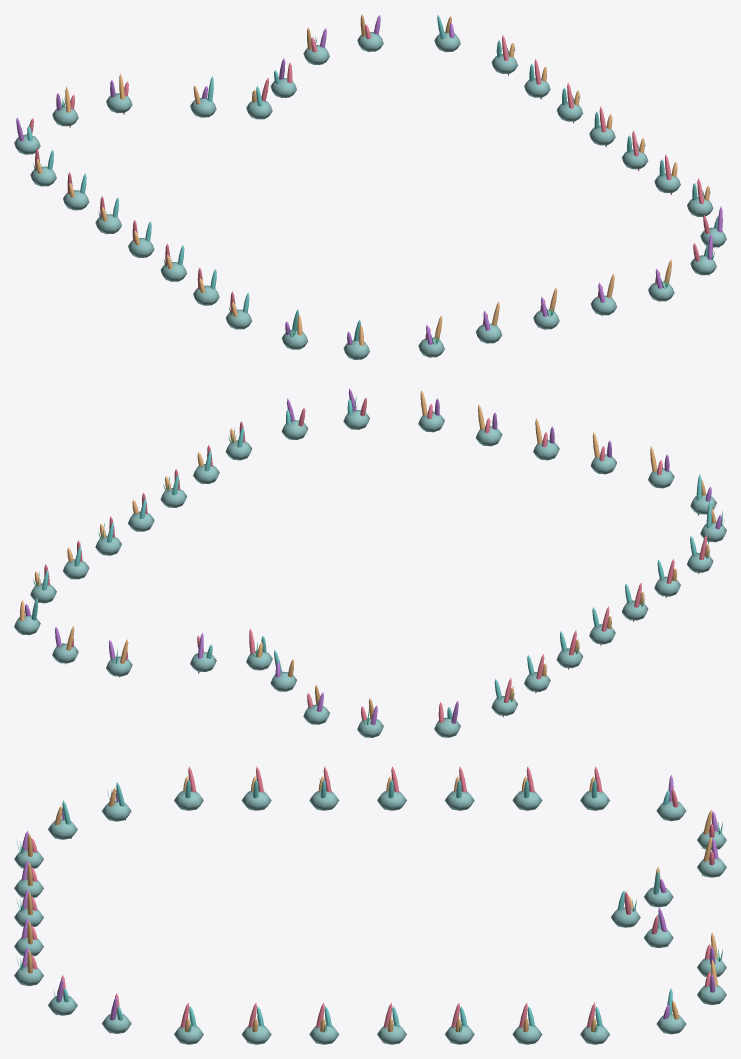
The model's file is reef-06-CSwLkJnU.glb.
3 views of the same model, one above another, from view 1: azimuth 30°, elevation 25°; view 2: azimuth 150°, elevation 25°; view 3: azimuth 270°, elevation 25° (orthographic). The views are drawn at different scales.
Visible parts, largest first — view 1: ReefRock, Coral2, Coral0, Coral3, Coral1; view 2: ReefRock, Coral2, Coral0, Coral3, Coral1; view 3: ReefRock, Coral0, Coral2, Coral3, Coral1.
Part boxes in pixels (x1,y1,x2,y2): ReefRock: [14, 32, 726, 359]; Coral2: [36, 14, 709, 345]; Coral0: [27, 24, 709, 339]; Coral3: [27, 15, 718, 340]; Coral1: [16, 15, 722, 344]; ReefRock: [14, 410, 726, 737]; Coral2: [19, 390, 716, 718]; Coral0: [44, 397, 706, 722]; Coral3: [31, 399, 711, 719]; Coral1: [25, 388, 721, 725]; ReefRock: [14, 791, 726, 1044]; Coral0: [31, 766, 714, 1042]; Coral2: [27, 776, 717, 1032]; Coral3: [62, 779, 672, 1026]; Coral1: [21, 775, 718, 1033].
Size of the model in its own units: 27 by 2.06 by 33.1.
